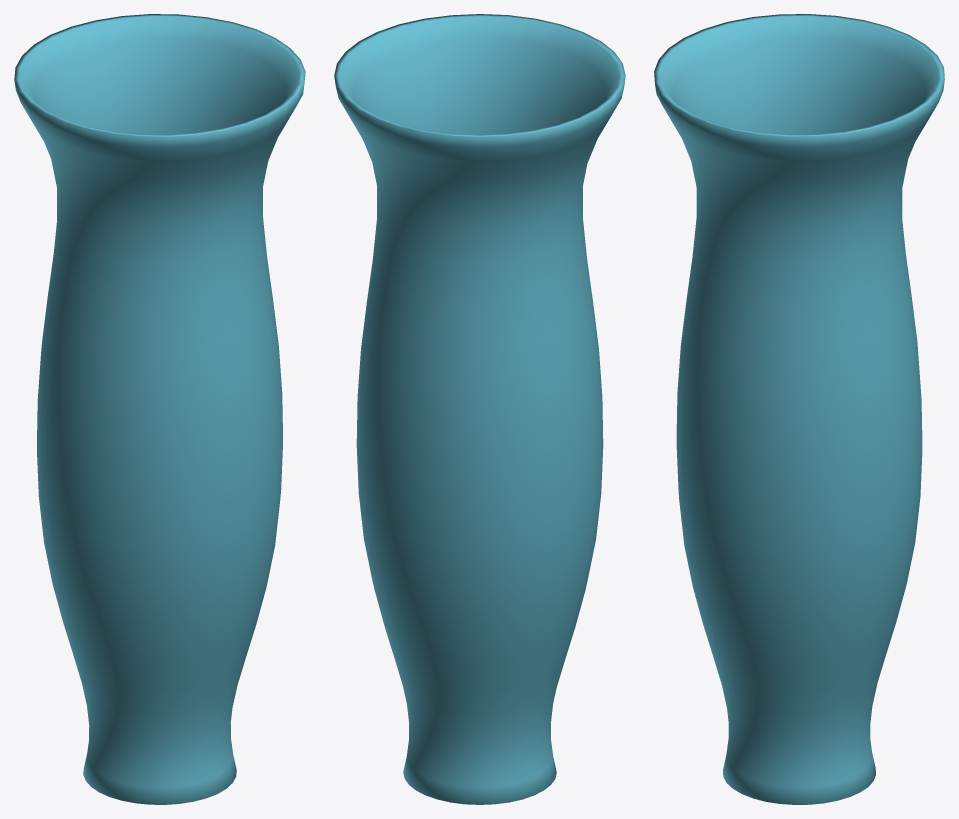
The model's file is vase.dae.
3 views of the same model, side by side, from view 1: azimuth 30°, elevation 25°; view 2: azimuth 150°, elevation 25°; view 3: azimuth 270°, elevation 25° (orthographic).
Visible parts, largest first — view 1: vase; view 2: vase; view 3: vase.
Boxes of the visible parts, <box> form: vase: <box>14,14,305,804</box>; vase: <box>334,14,625,804</box>; vase: <box>654,14,944,804</box>.
Size of the model in its own units: 2.85 by 2.85 by 7.53.
